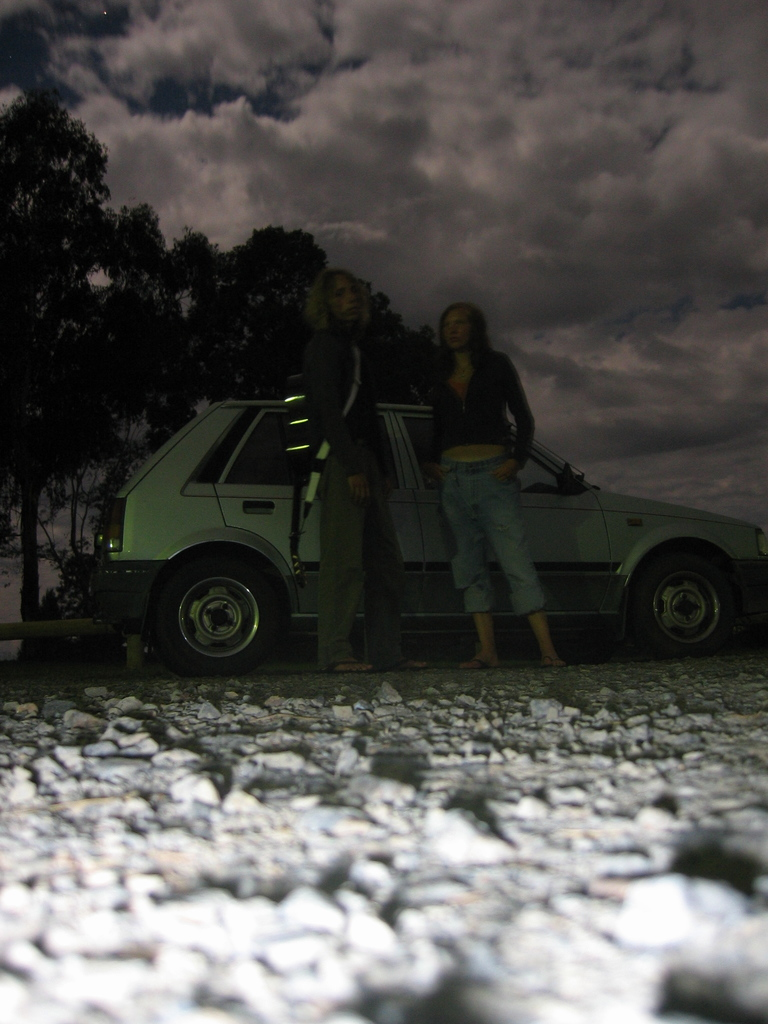car: (59, 368, 764, 681)
